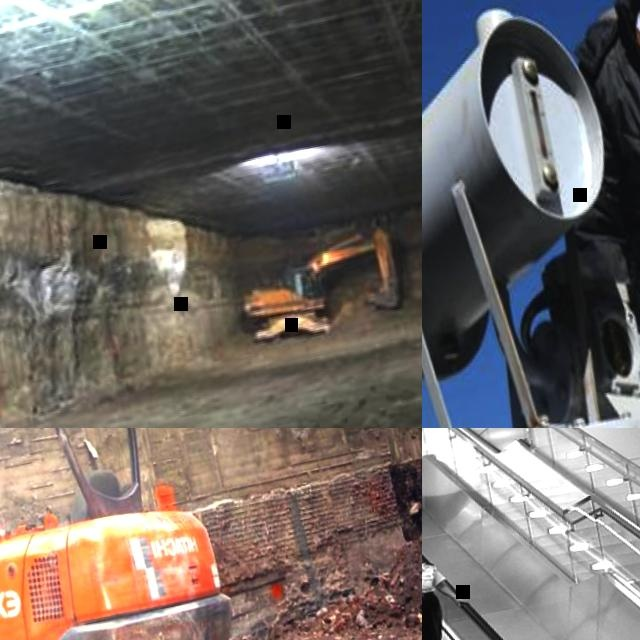NO-Safety Vest: (580, 0, 640, 373), (422, 561, 439, 600)
Person: (505, 0, 640, 428), (422, 532, 482, 640)
machinery: (0, 428, 262, 640), (231, 223, 407, 350)
